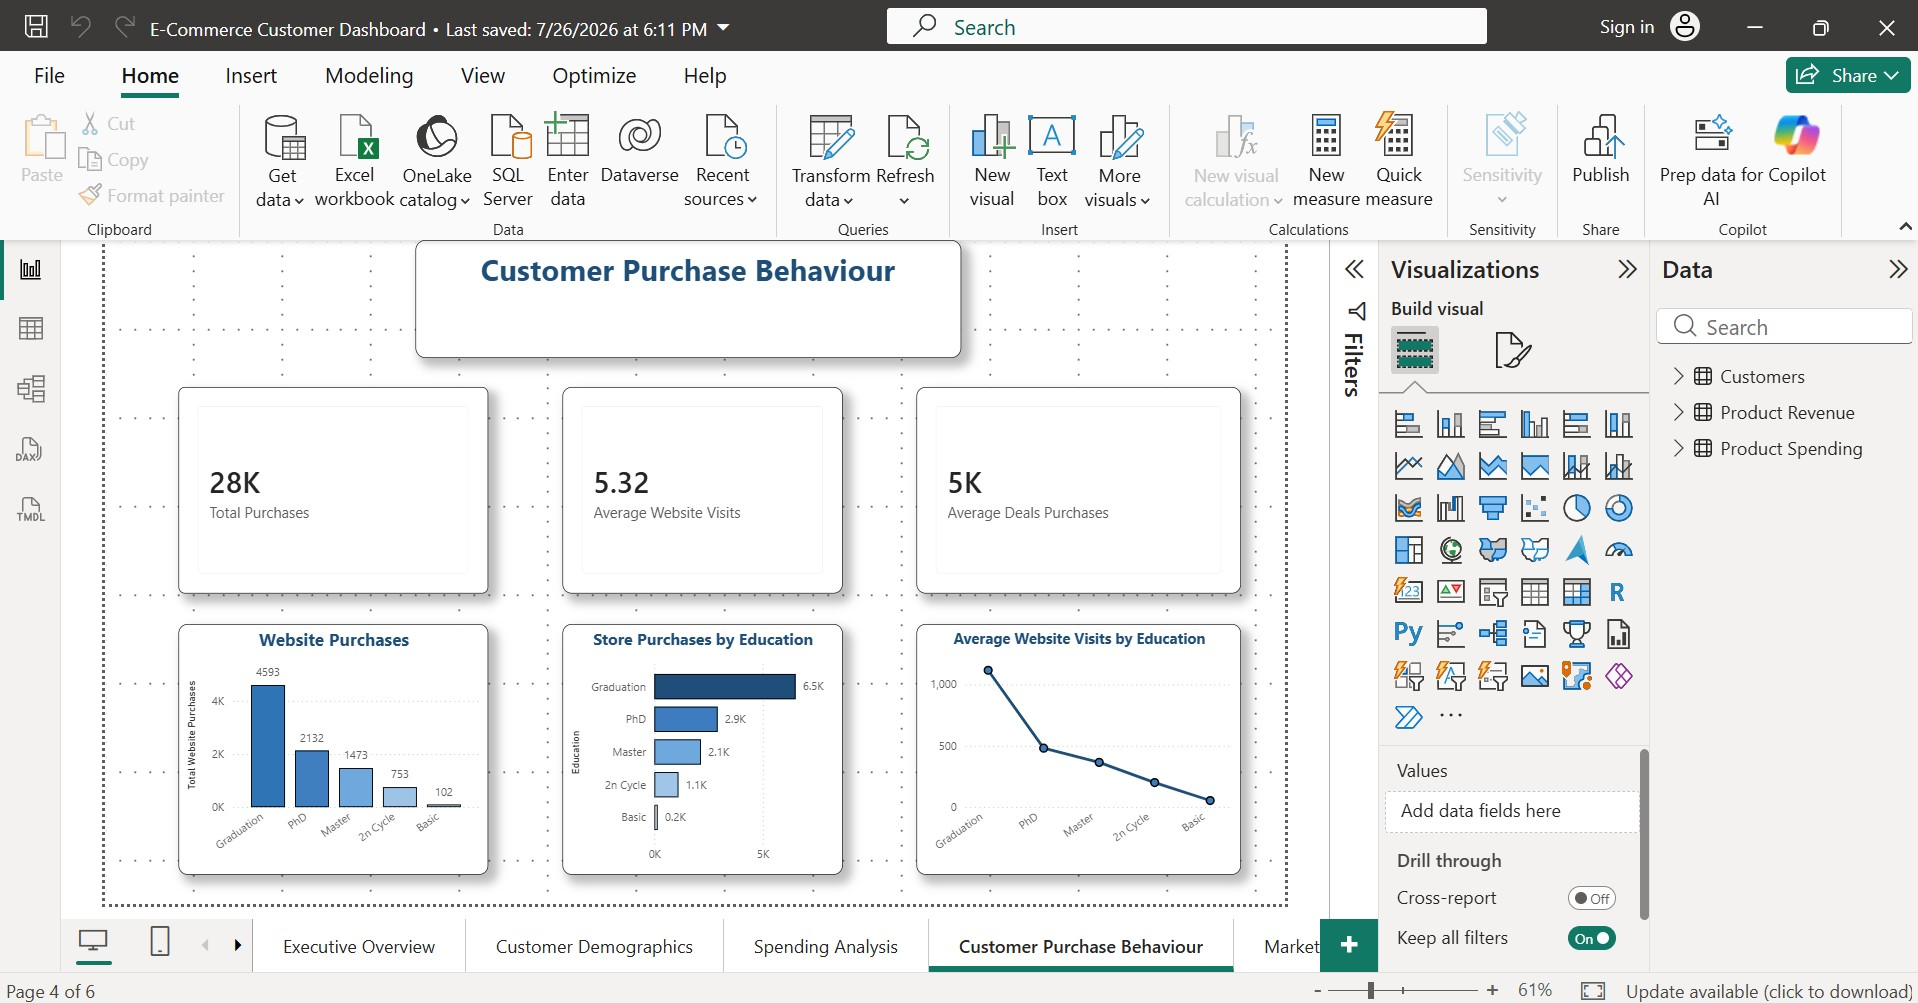

What the dashboard file says about the page in this screenshot:
{"tool":"powerbi","page":{"name":"Customer Purchase Behaviour","canvas":[1280,720],"ordinal":3},"visuals":[{"type":"textbox","box":[336,0,592,128],"z":0},{"type":"cardVisual","fields":{"Data":["Customers.Total Purchases KPI"]},"box":[80,160,336,224],"z":1000},{"type":"cardVisual","fields":{"Data":["Sum(Customers.NumDealsPurchases)"]},"box":[880,160,352,224],"z":2000},{"type":"clusteredColumnChart","title":"Website Purchases ","fields":{"Category":["Customers.Education"],"Y":["Sum(Customers.NumWebPurchases)"]},"box":[80,416,336,272],"z":3000},{"type":"clusteredBarChart","title":"Store Purchases by Education","fields":{"Category":["Customers.Education"],"Y":["Sum(Customers.NumStorePurchases)"]},"box":[496,416,304,272],"z":4000},{"type":"lineChart","title":"Average Website Visits by Education","fields":{"Category":["Customers.Education"],"Y":["CountNonNull(Customers.NumWebVisitsMonth)"]},"box":[880,416,352,272],"z":5000},{"type":"cardVisual","fields":{"Data":["Customers.Average Website Visits"]},"box":[496,160,304,224],"z":6000}]}

Visuals, with their boxes on the page's 1280x720 design canvas (x1, y1, x2, y2). These are canvas units, not pixel positions in the 1918x1003 screenshot, which may show the page scaled, cropped or inside an application window:
textbox: box=[336, 0, 928, 128]
cardVisual - Customers.Total Purchases KPI: box=[80, 160, 416, 384]
cardVisual - Sum(Customers.NumDealsPurchases): box=[880, 160, 1232, 384]
"Website Purchases " clusteredColumnChart: box=[80, 416, 416, 688]
"Store Purchases by Education" clusteredBarChart: box=[496, 416, 800, 688]
"Average Website Visits by Education" lineChart: box=[880, 416, 1232, 688]
cardVisual - Customers.Average Website Visits: box=[496, 160, 800, 384]
